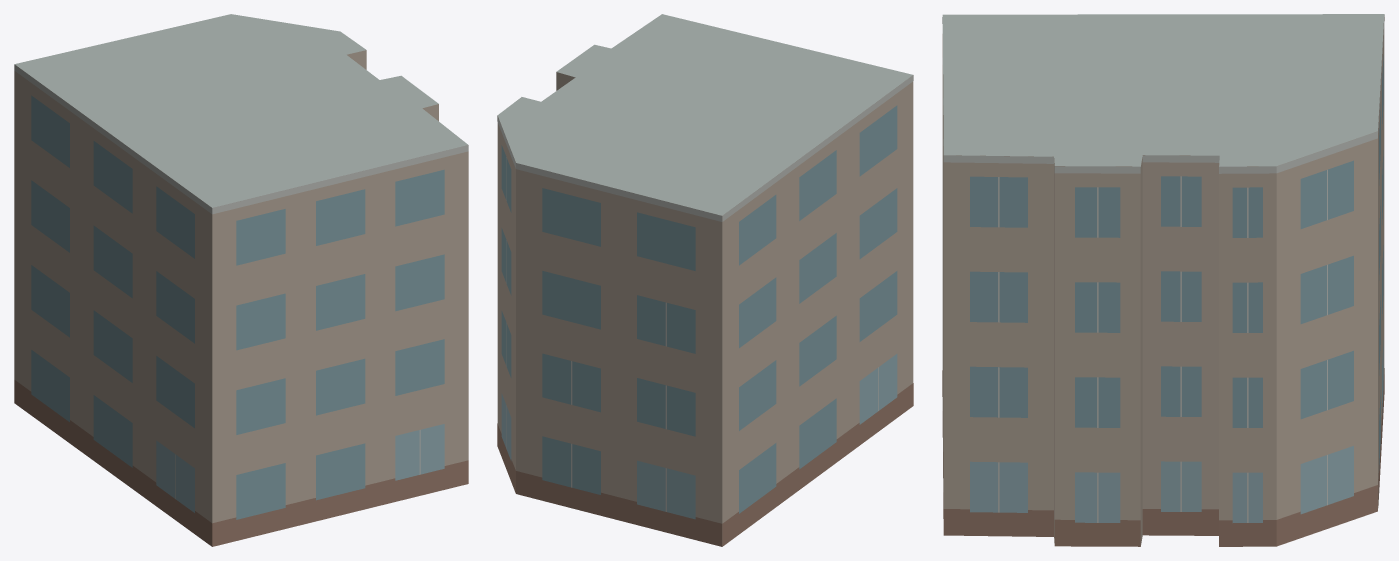
The model's file is survey-upis-32987428.glb.
The picture shows the model from 3 angles, left to right: view 1: azimuth 30°, elevation 25°; view 2: azimuth 150°, elevation 25°; view 3: azimuth 270°, elevation 25°; orthographic projection. The views are drawn at different scales.
Parts seen in each view (by area): view 1: survey-upis-32987428.tmp; view 2: survey-upis-32987428.tmp; view 3: survey-upis-32987428.tmp.
Part boxes in pixels (x1,y1,x2,y2): survey-upis-32987428.tmp: (14, 14, 468, 546); survey-upis-32987428.tmp: (497, 14, 913, 546); survey-upis-32987428.tmp: (942, 14, 1384, 546).
Size of the model in its own units: 11.12 by 12.9 by 13.59.
